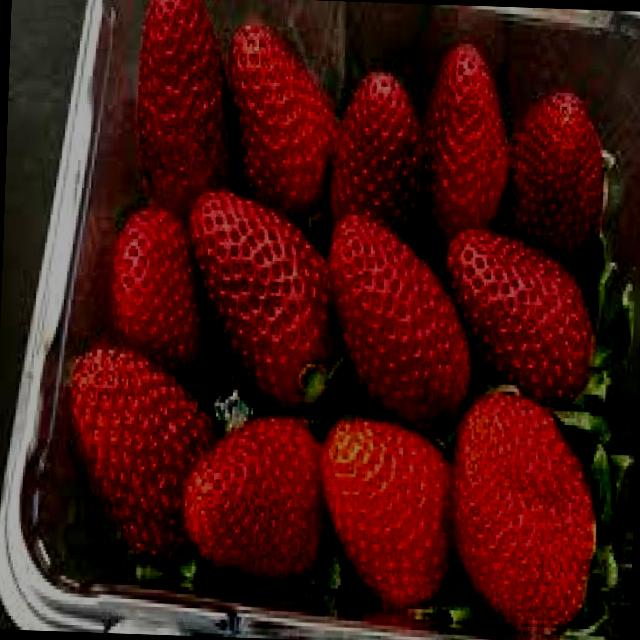Strawberry: (446, 386, 600, 636), (180, 184, 344, 413), (319, 210, 476, 436), (64, 341, 218, 563), (314, 412, 461, 610), (440, 225, 598, 405), (177, 408, 335, 588), (220, 17, 341, 228), (131, 0, 239, 216), (412, 38, 512, 258), (108, 200, 214, 384), (502, 87, 606, 261), (324, 66, 426, 242)
